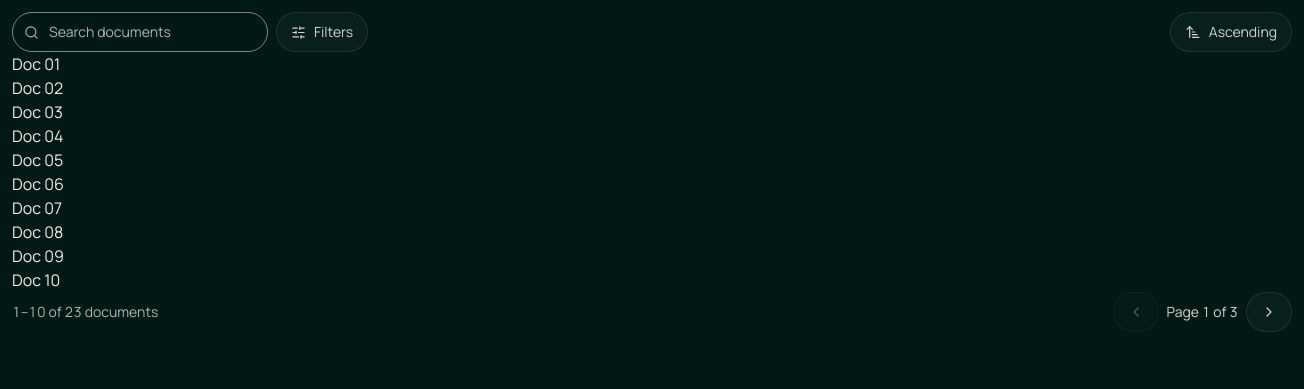
Test case: a paged list › goes back to page 1 on a new search, as the first keystroke lands
Step 1. Click the button named "Next page" → (1269, 312), box x1=1246 y1=292 x2=1292 y2=332
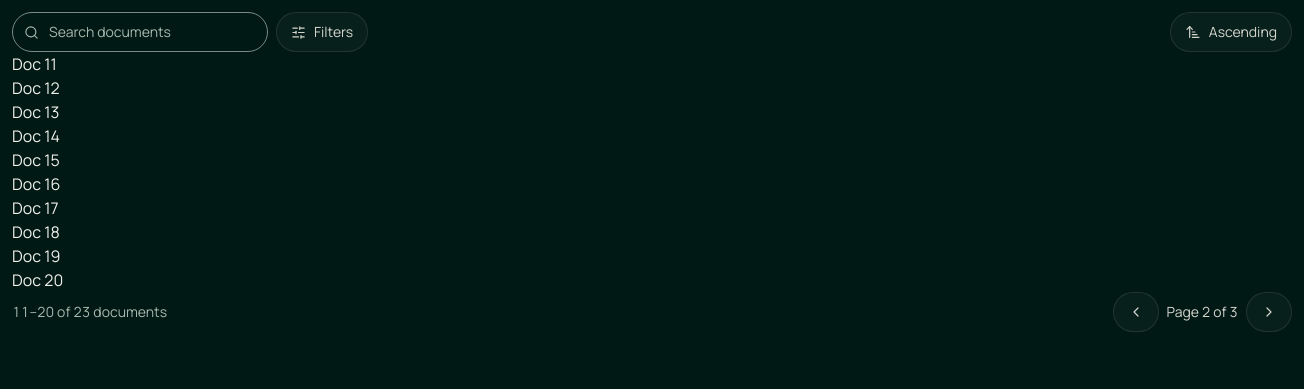
Step 2. Type "Doc" into the search field labelled "Search documents" → (140, 32), box x1=12 y1=12 x2=268 y2=52
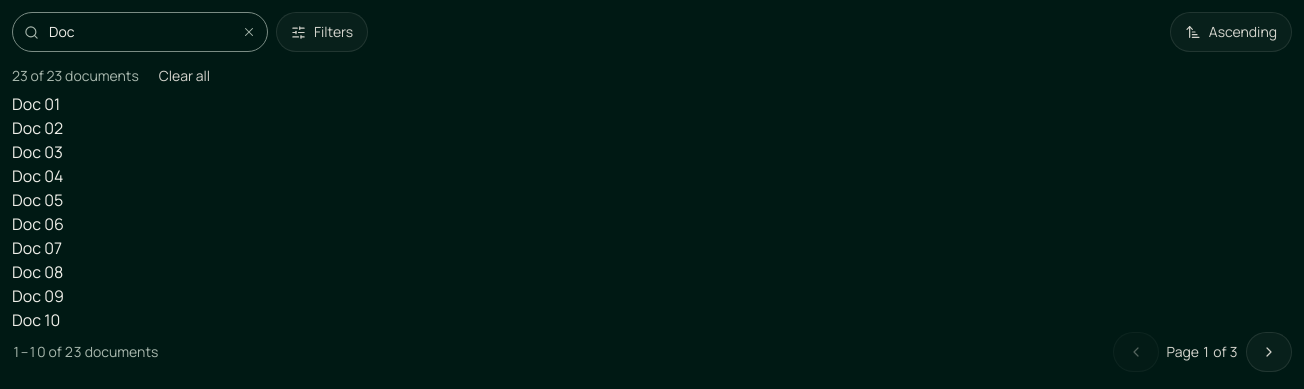
Expected: the list item "Doc 01" is shown, x1=12 y1=93 x2=60 y2=115
Expected: the text "Page 1 of 3" is shown, x1=1167 y1=342 x2=1238 y2=362
